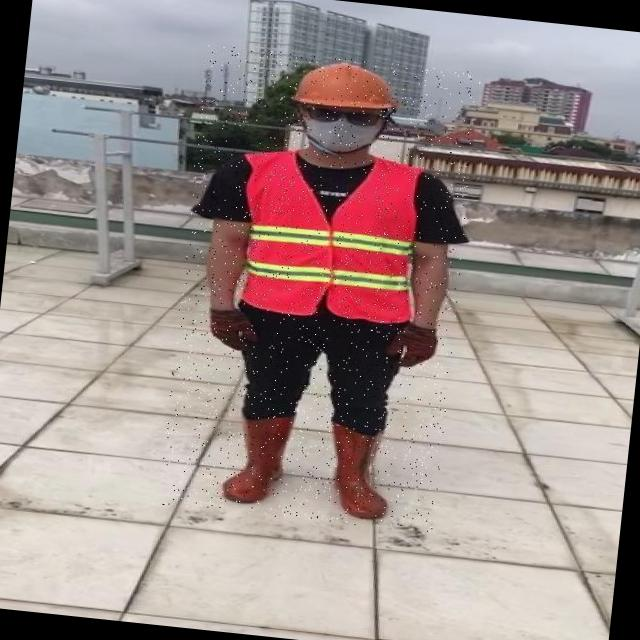hard_hat: (290, 54, 406, 117)
safety_vest: (230, 147, 426, 326)
vehicle: (158, 44, 482, 533)
work_boots: (321, 420, 398, 522), (218, 409, 292, 507)
